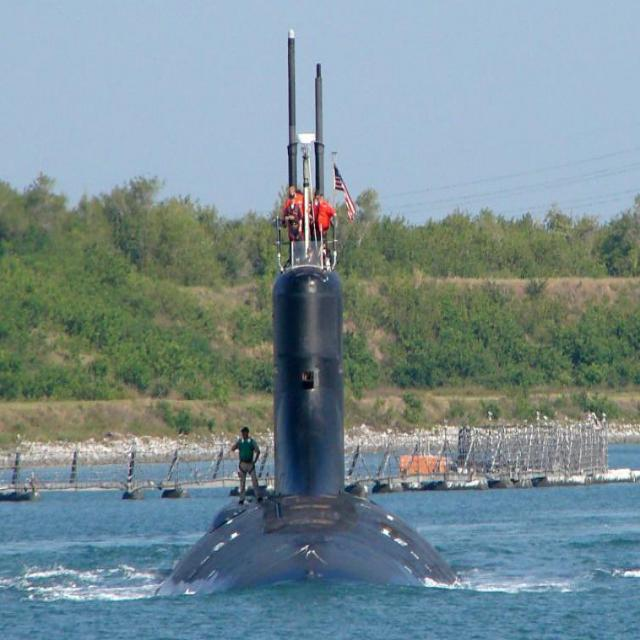submarine: (164, 29, 463, 586)
